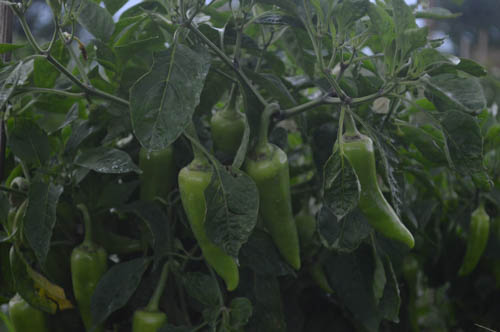ChiliPepper: (340, 139, 413, 248), (177, 164, 237, 292), (249, 148, 303, 265), (68, 244, 106, 324), (458, 211, 488, 278), (133, 145, 172, 196), (206, 109, 246, 153), (124, 308, 161, 331)
